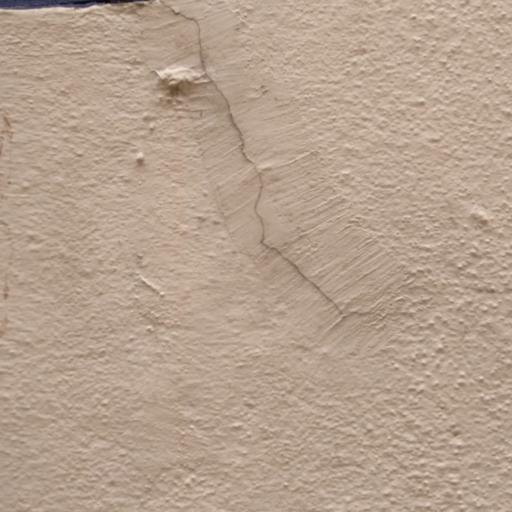minor_crack: (116, 0, 386, 332)
